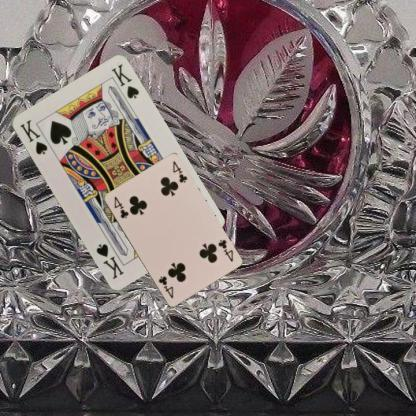4c: (215, 237, 234, 263), (112, 194, 130, 220)
Ks: (17, 117, 49, 156)
